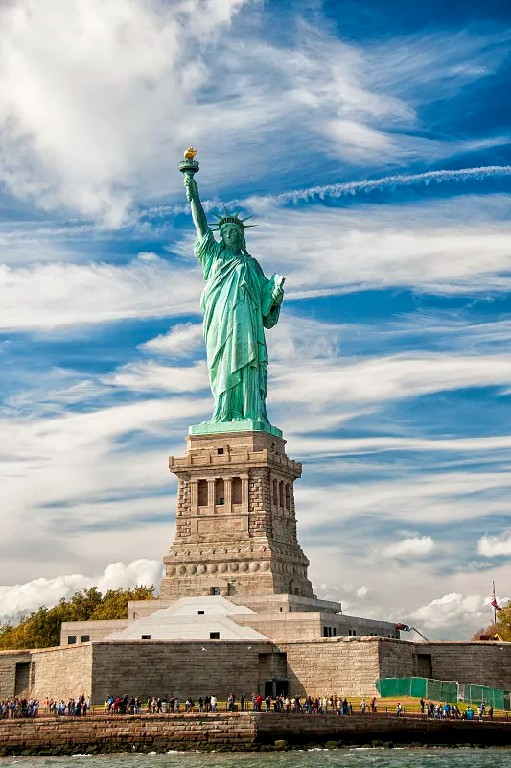SL: (158, 146, 316, 598)
